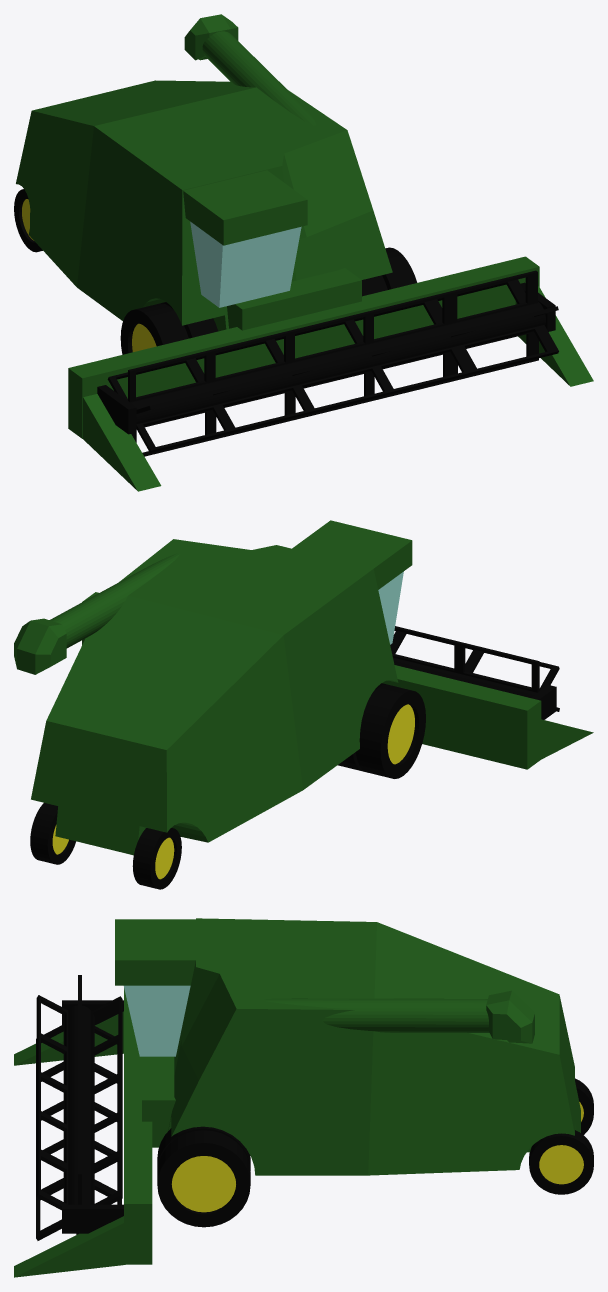
The model's file is harvester.gltf.
3 renders of one model, top to bottom at view 1: azimuth 30°, elevation 25°; view 2: azimuth 150°, elevation 25°; view 3: azimuth 270°, elevation 25°, orthographic. The views are drawn at different scales.
Parts seen in each view (by area): view 1: Cube.001, Cylinder, Cube.004, Cube.008, Cube, Cube.002, Cube.003, Cylinder.007, Cylinder.002, Cube.005, Cube.009, Cube.006 (+2 smaller); view 2: Cube.001, Cube.004, Cylinder.002, Cube.008, Cylinder, Cylinder.007, Cylinder.005, Cube.009, Cylinder.006, Cube.003, Cube, Cube.006; view 3: Cube.001, Cylinder, Cylinder.004, Cube.004, Cylinder.007, Cube.008, Cube, Cube.005, Cylinder.006, Cube.002, Cube.009, Cube.007 (+4 smaller).
Boxes of the visible parts, box(x1,y1,x2,y2) form: Cube.001: box(16, 80, 392, 331); Cylinder: box(107, 270, 558, 456); Cube.004: box(68, 256, 539, 438); Cube.008: box(183, 170, 307, 245); Cube: box(190, 221, 301, 307); Cube.002: box(227, 268, 361, 330); Cube.003: box(83, 394, 161, 491); Cylinder.007: box(202, 31, 315, 125); Cylinder.002: box(120, 303, 188, 354); Cube.005: box(515, 286, 593, 386); Cube.009: box(184, 14, 238, 60); Cube.006: box(97, 385, 136, 434); Cube.001: box(31, 539, 398, 855); Cube.004: box(82, 592, 541, 769); Cylinder.002: box(356, 684, 425, 778); Cube.008: box(292, 520, 412, 589); Cylinder: box(390, 626, 559, 711); Cylinder.007: box(49, 553, 179, 648); Cylinder.005: box(132, 828, 181, 889); Cube.009: box(14, 618, 66, 674); Cylinder.006: box(30, 803, 75, 864); Cube.003: box(541, 719, 593, 759); Cube: box(378, 571, 403, 644); Cube.006: box(531, 685, 556, 719); Cube.001: box(168, 918, 580, 1175); Cylinder: box(36, 975, 122, 1240); Cylinder.004: box(157, 1130, 250, 1227); Cube.004: box(124, 988, 152, 1264); Cylinder.007: box(263, 998, 489, 1032); Cube.008: box(115, 919, 195, 985); Cube: box(124, 985, 190, 1056); Cube.005: box(14, 1216, 125, 1277); Cylinder.006: box(529, 1130, 593, 1194); Cube.002: box(142, 1056, 175, 1147); Cube.009: box(486, 990, 534, 1043); Cube.007: box(62, 1204, 123, 1233).
Bounding box in the file's own units: 11.34 × 5.12 × 12.45.
